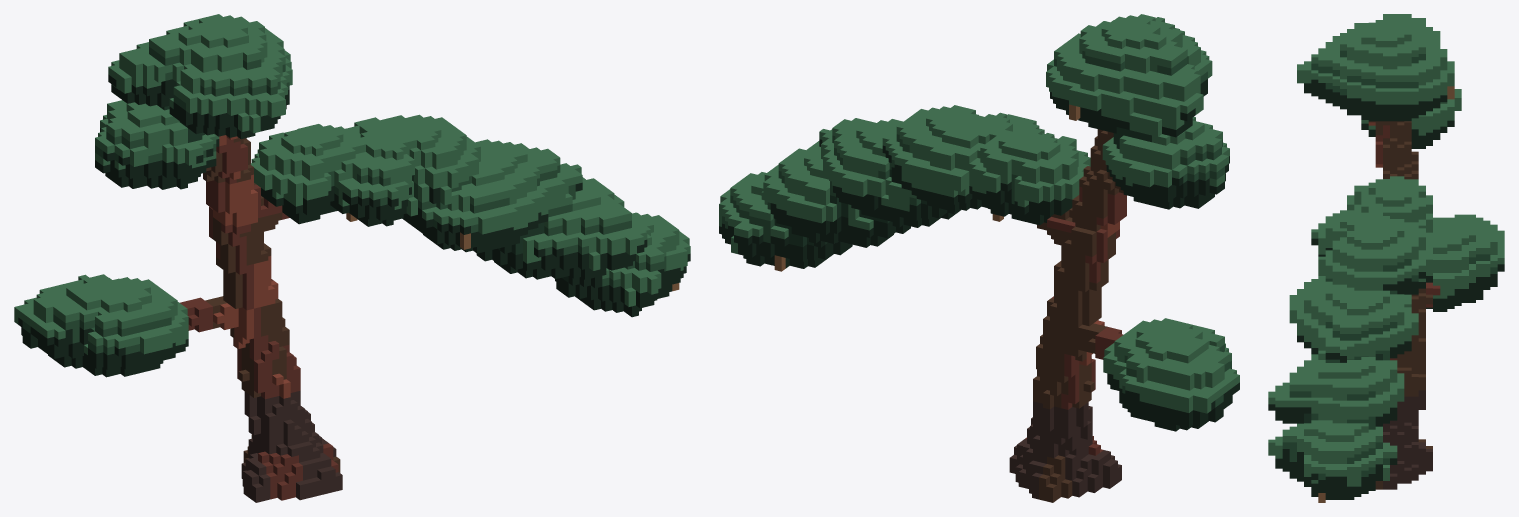
The model's file is Mountain_Pine_v5_Sweep.fbx.
3 renders of one model, left to right at view 1: azimuth 30°, elevation 25°; view 2: azimuth 150°, elevation 25°; view 3: azimuth 270°, elevation 25°, orthographic. The views are drawn at different scales.
Visible parts, largest first — view 1: Mountain_Pine_v5_Sweep; view 2: Mountain_Pine_v5_Sweep; view 3: Mountain_Pine_v5_Sweep.
Boxes of the visible parts, x1=… form: Mountain_Pine_v5_Sweep: x1=14, y1=14, x2=690, y2=502; Mountain_Pine_v5_Sweep: x1=719, y1=14, x2=1239, y2=502; Mountain_Pine_v5_Sweep: x1=1268, y1=14, x2=1504, y2=502.
Bounding box in the file's own units: 5.4 × 4.2 × 2.2.
Materials: 1 (1 with a texture image).
